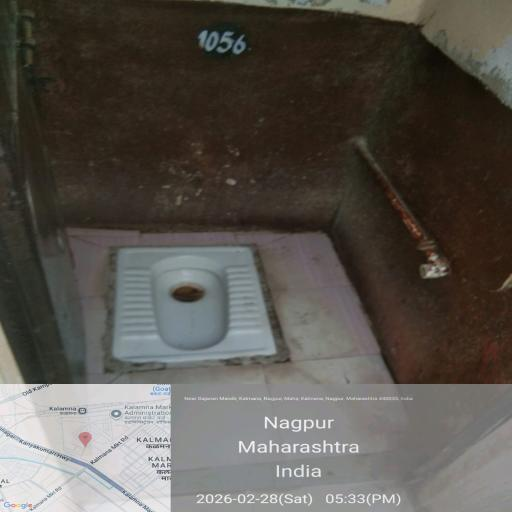clean_indian: (102, 232, 308, 422)
partial_dirty_floor: (19, 0, 472, 238), (35, 363, 486, 455)
